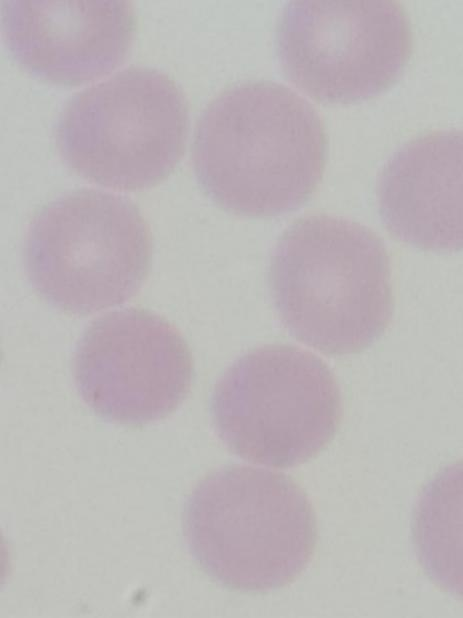Uninfected: (188, 82, 323, 223), (268, 214, 393, 356), (185, 462, 314, 594), (208, 347, 343, 466), (22, 186, 148, 312), (58, 74, 186, 185), (278, 0, 412, 105), (75, 312, 191, 421), (0, 0, 132, 90), (378, 131, 463, 250)
